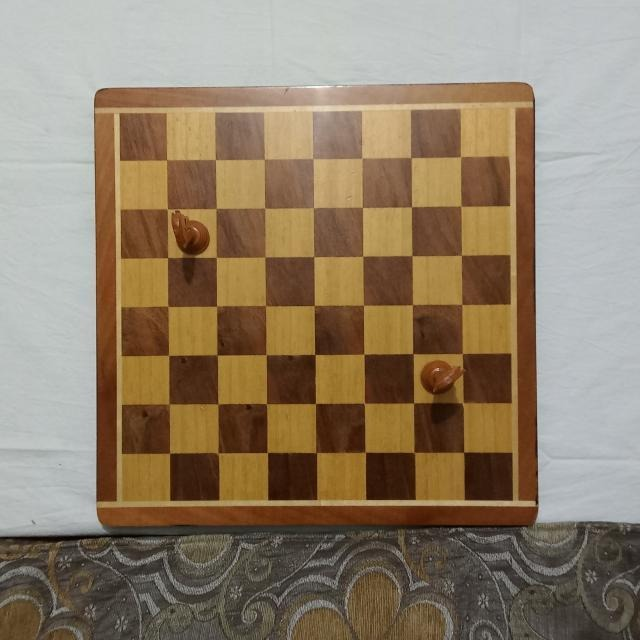white-knight: (170, 207, 211, 256), (419, 357, 465, 394)
